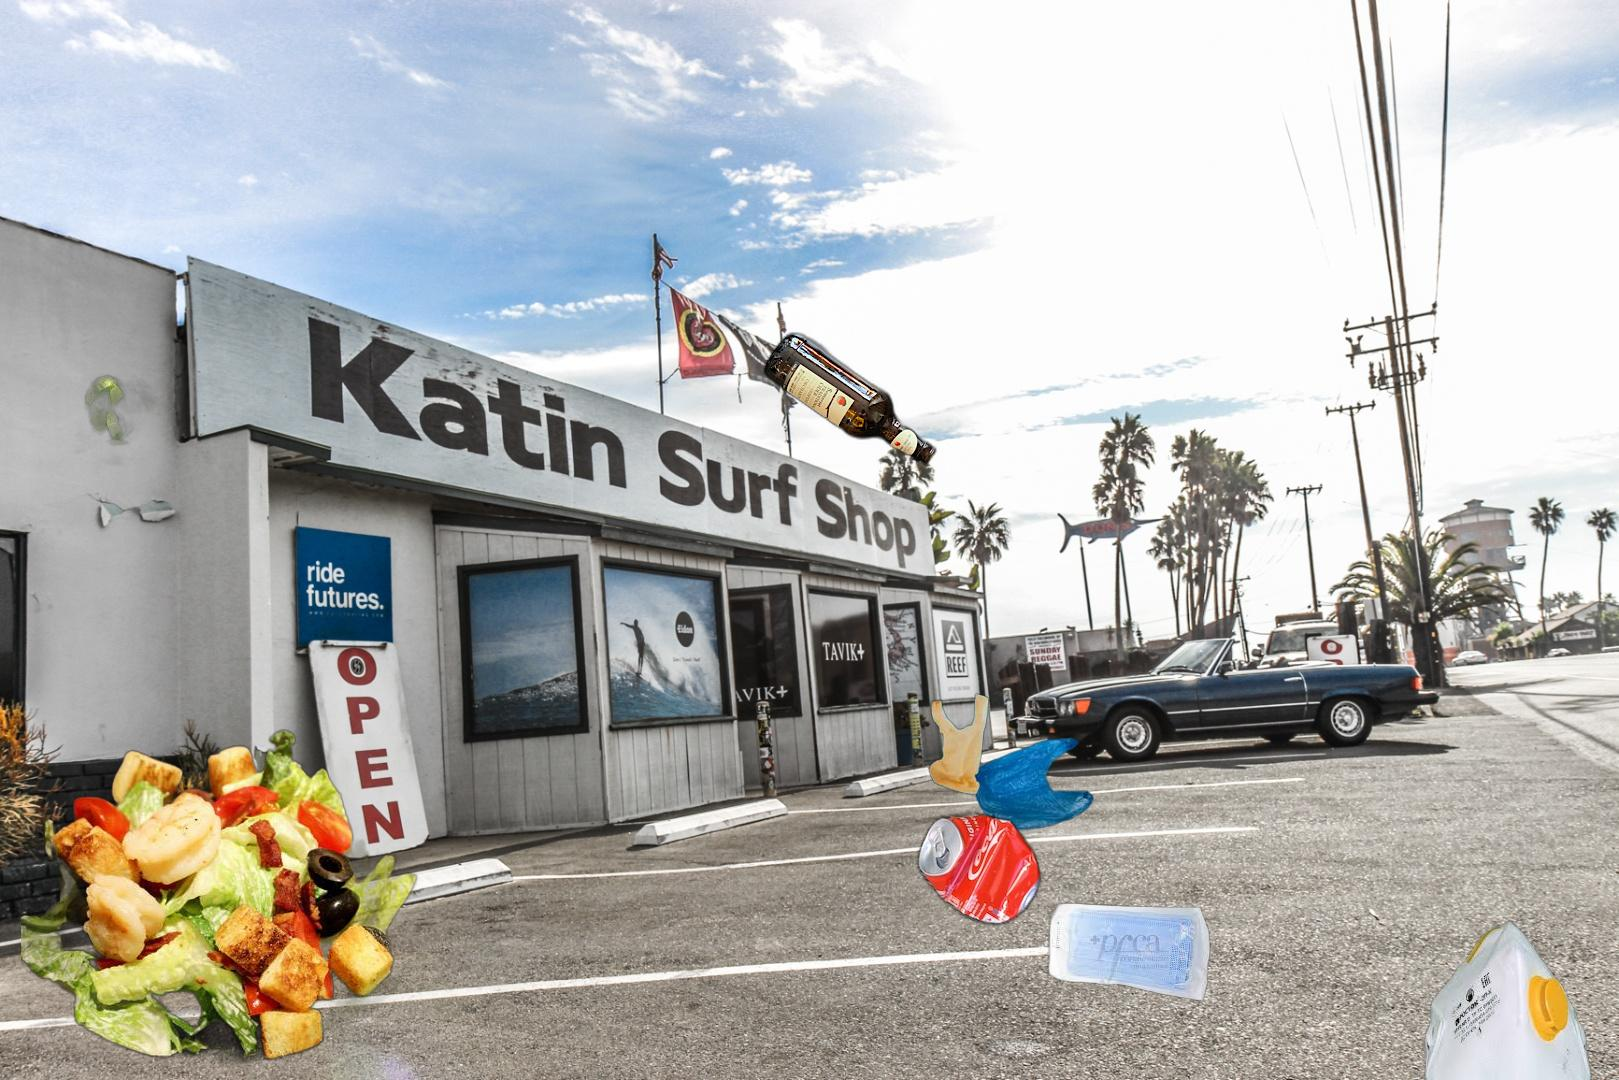biological: (20, 724, 421, 1080), (71, 370, 237, 492)
glass: (759, 325, 940, 470)
metal-cans: (723, 808, 1234, 1080)
plastic-bag: (927, 691, 1093, 835)
trash: (1421, 918, 1594, 1080), (1045, 900, 1213, 1004)
